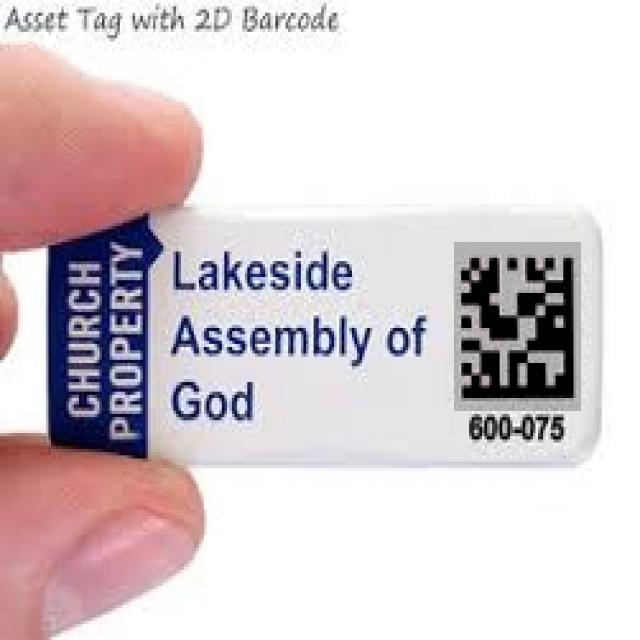DataMatrix: (454, 242, 581, 411)
